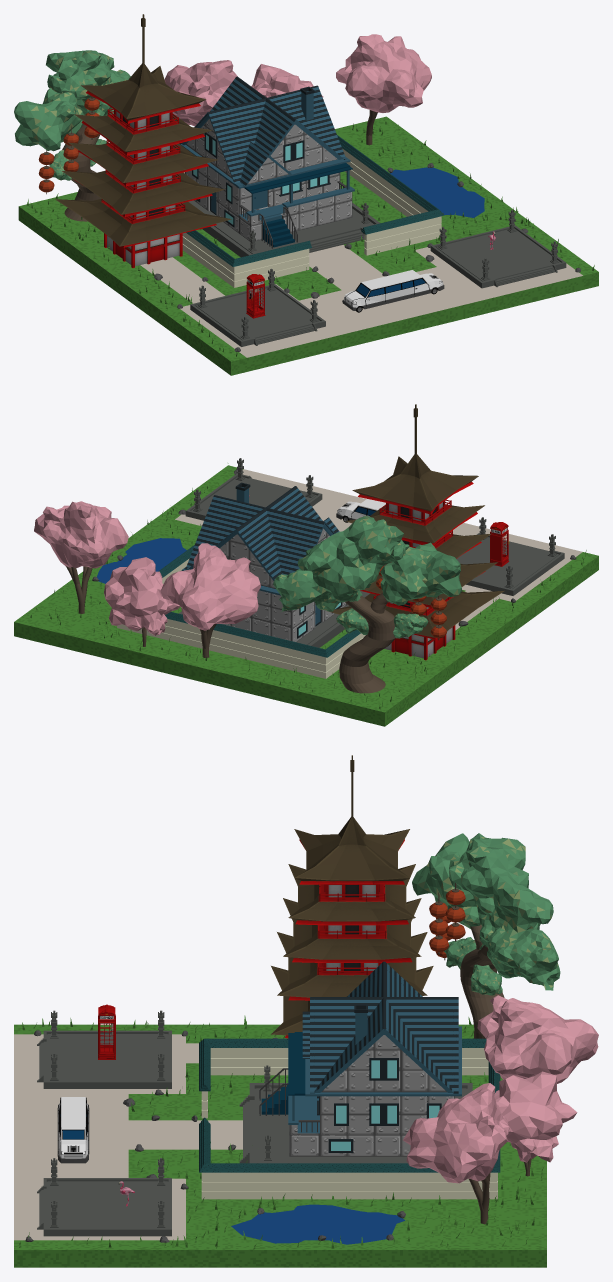
3 views of the same model, one above another, from view 1: azimuth 30°, elevation 25°; view 2: azimuth 150°, elevation 25°; view 3: azimuth 270°, elevation 25° (orthographic). The views are drawn at different scales.
Parts seen in each view (by area): view 1: Cube.005, Cube.078, VEHICLES_LIMOUSINE, OBJRANDOM_PHONEBOOTH; view 2: Cube.005, Cube.078, OBJRANDOM_PHONEBOOTH, VEHICLES_LIMOUSINE; view 3: Cube.005, Cube.078, VEHICLES_LIMOUSINE, OBJRANDOM_PHONEBOOTH.
Part boxes in pixels (box(x1,y1,x2,y2)): Cube.005: box(14, 14, 598, 375); Cube.078: box(179, 76, 354, 248); VEHICLES_LIMOUSINE: box(342, 270, 444, 312); OBJRANDOM_PHONEBOOTH: box(246, 274, 265, 318); Cube.005: box(14, 404, 598, 726); Cube.078: box(181, 482, 347, 642); OBJRANDOM_PHONEBOOTH: box(490, 522, 509, 566); VEHICLES_LIMOUSINE: box(336, 499, 385, 522); Cube.005: box(14, 755, 598, 1267); Cube.078: box(259, 961, 461, 1156); VEHICLES_LIMOUSINE: box(57, 1097, 89, 1163); OBJRANDOM_PHONEBOOTH: box(98, 1004, 115, 1059).
Bounding box in the file's own units: 4528 × 2690 × 4389.
Materials: 51 (7 with a texture image).
